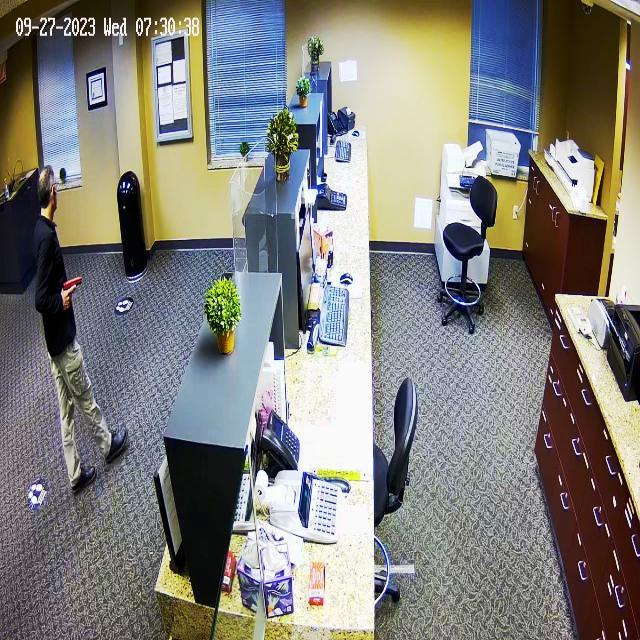Gun: (53, 269, 89, 317)
